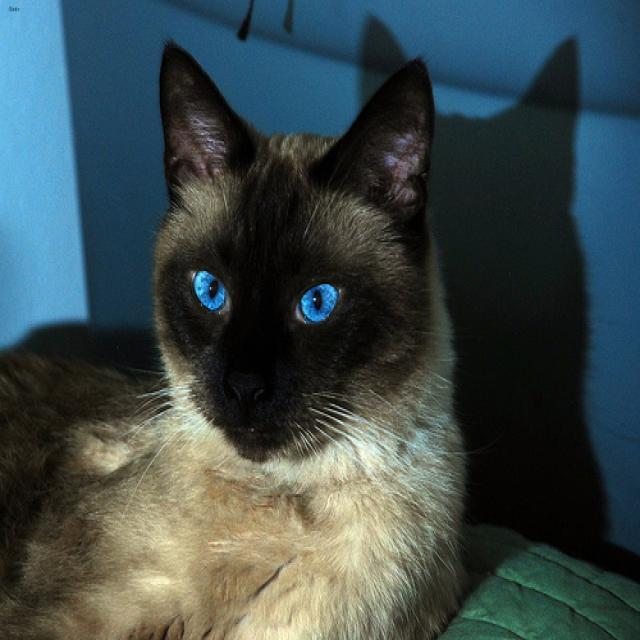Siamese: (152, 40, 433, 460)
